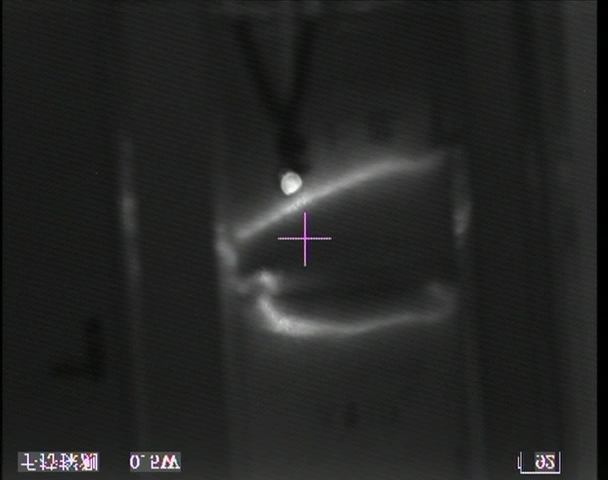my: (278, 169, 303, 196)
